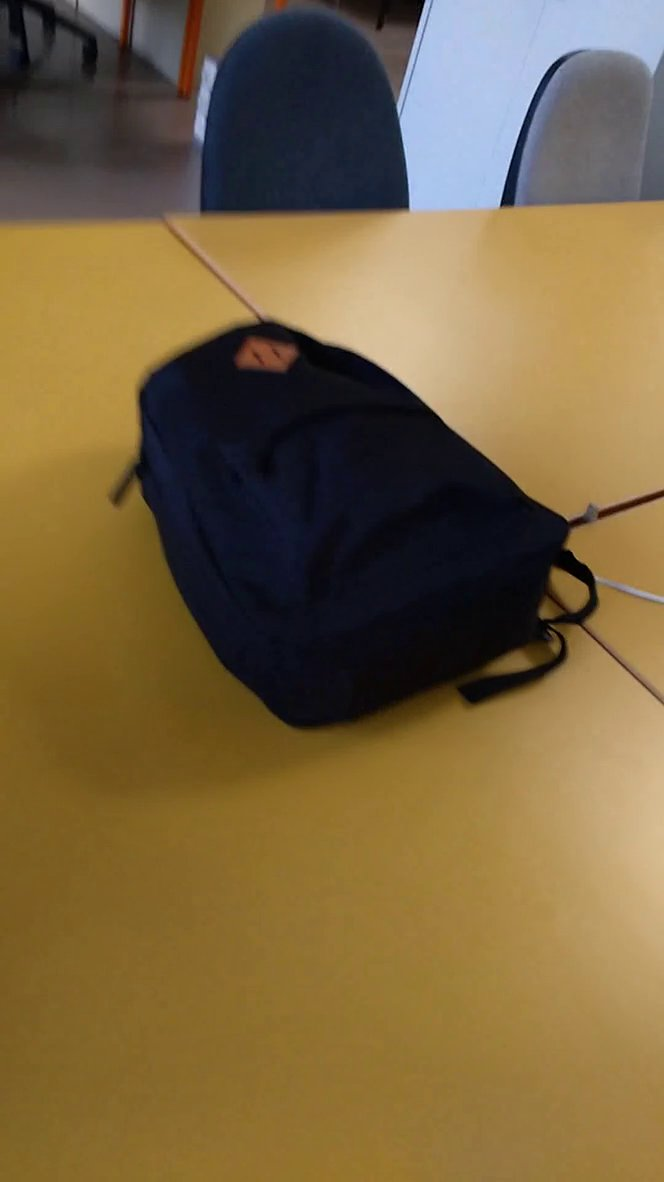bag: (103, 311, 614, 745)
chair: (194, 6, 420, 251), (486, 29, 664, 247)
